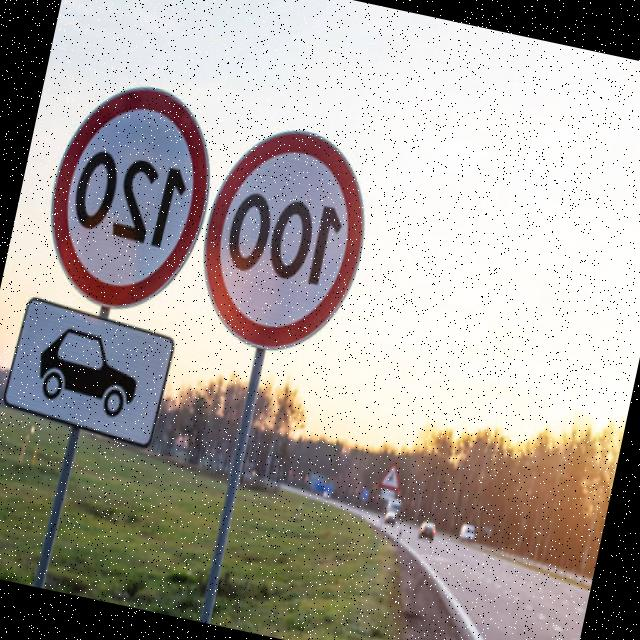speed_limit_100: (185, 110, 384, 364)
speed_limit_120: (26, 68, 228, 322)
